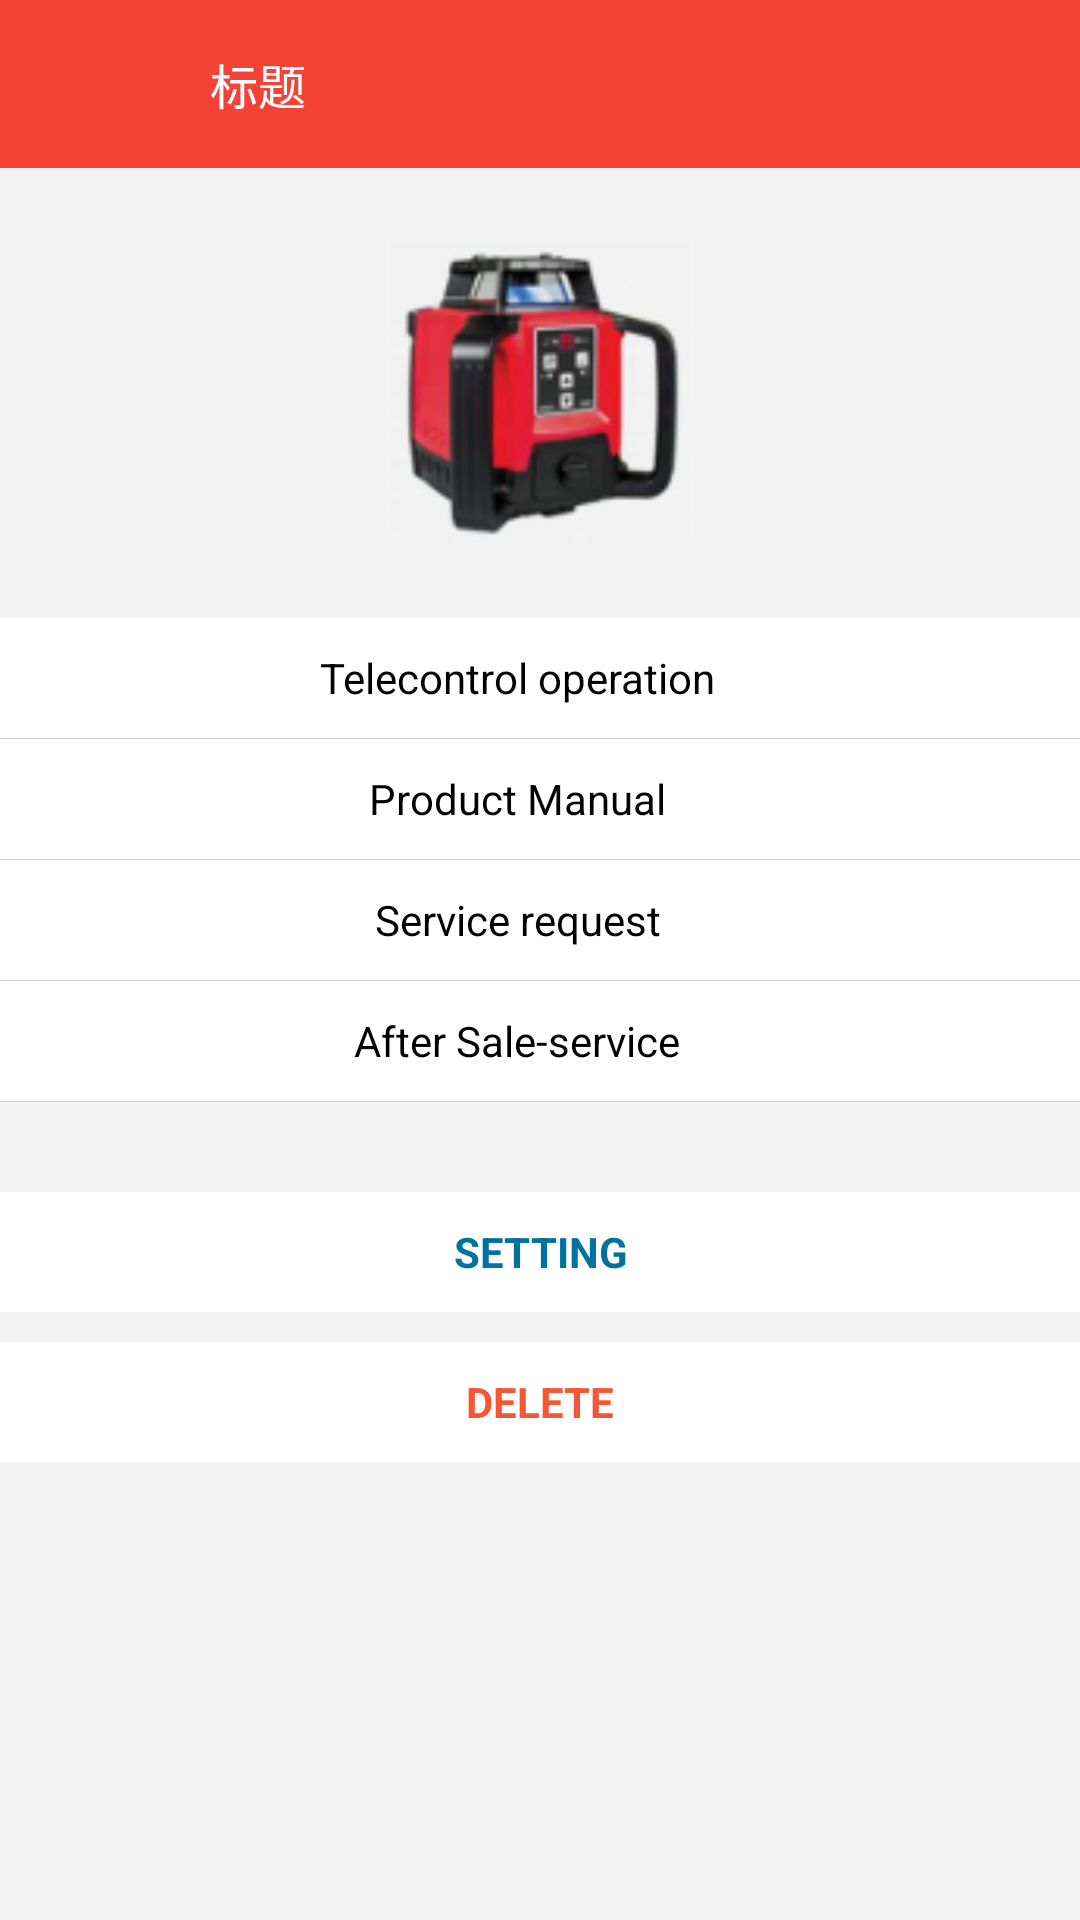

Where to tap for icons on this 1080x1920 app screen, as (x,y):
device: (542,393)
